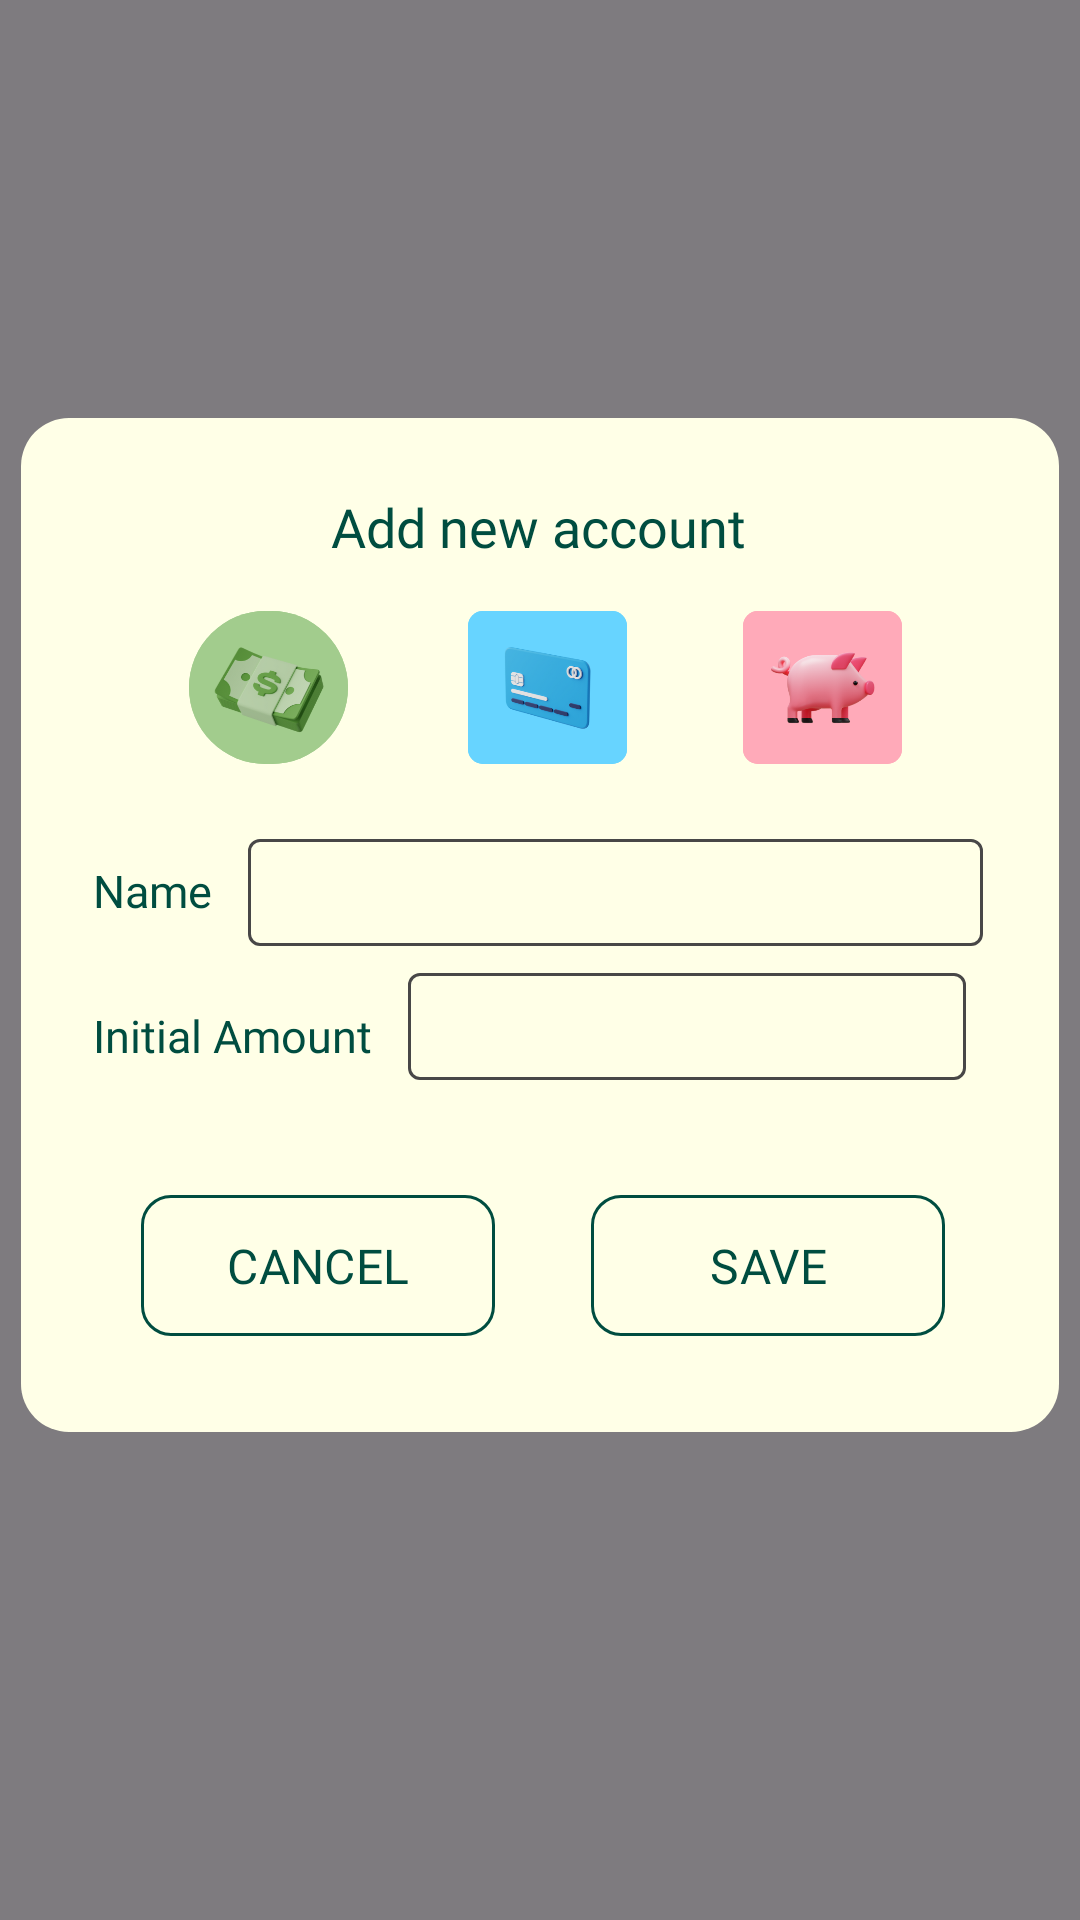

Named icons in this screenshot (1080px×1920px) and their centers, point (x, y):
card: point (548, 688)
cash: point (268, 688)
pig: point (823, 688)
